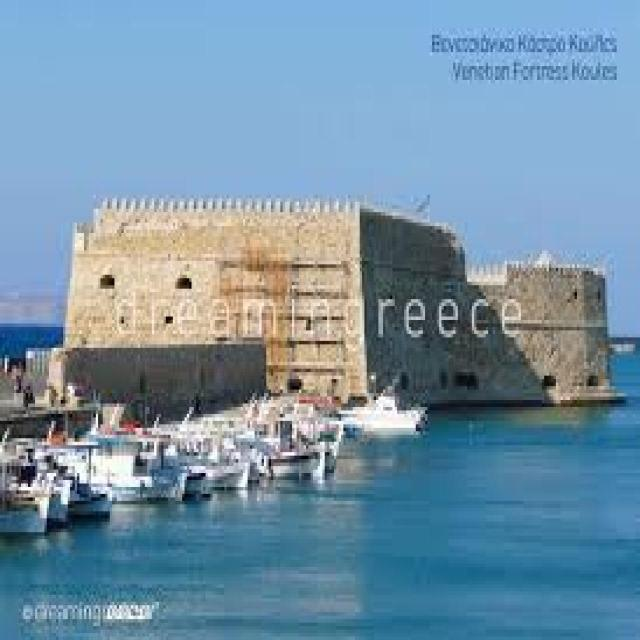Kules: (62, 197, 624, 412)
